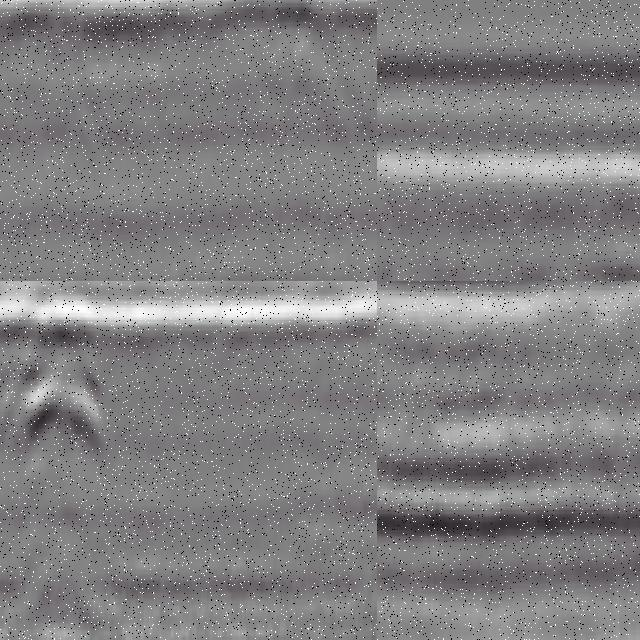loose: (1, 300, 129, 455)
